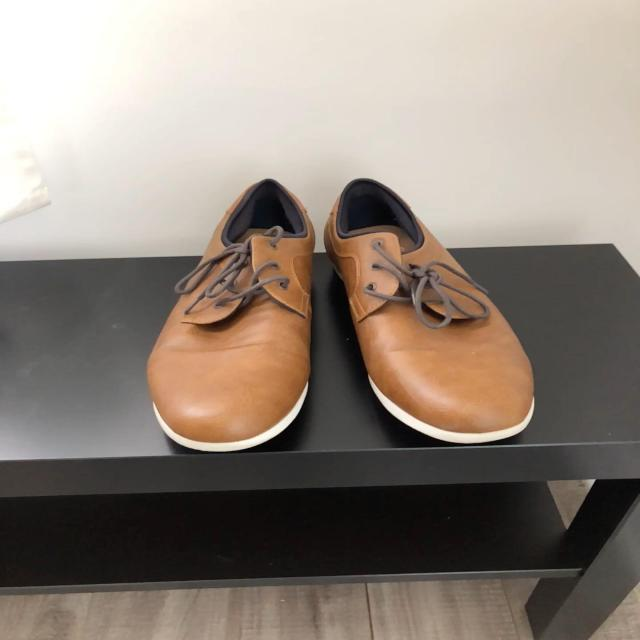shoe: (326, 179, 536, 446), (146, 181, 313, 452)
